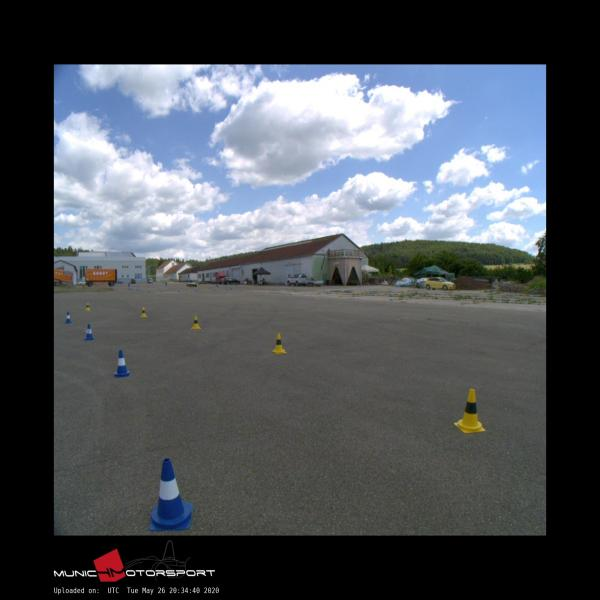blue_cone: (150, 458, 194, 531), (115, 349, 130, 375), (84, 324, 94, 339), (64, 312, 72, 323)
yellow_cone: (453, 388, 484, 432), (272, 333, 286, 353), (191, 315, 200, 328), (140, 307, 147, 317), (85, 302, 91, 311)
